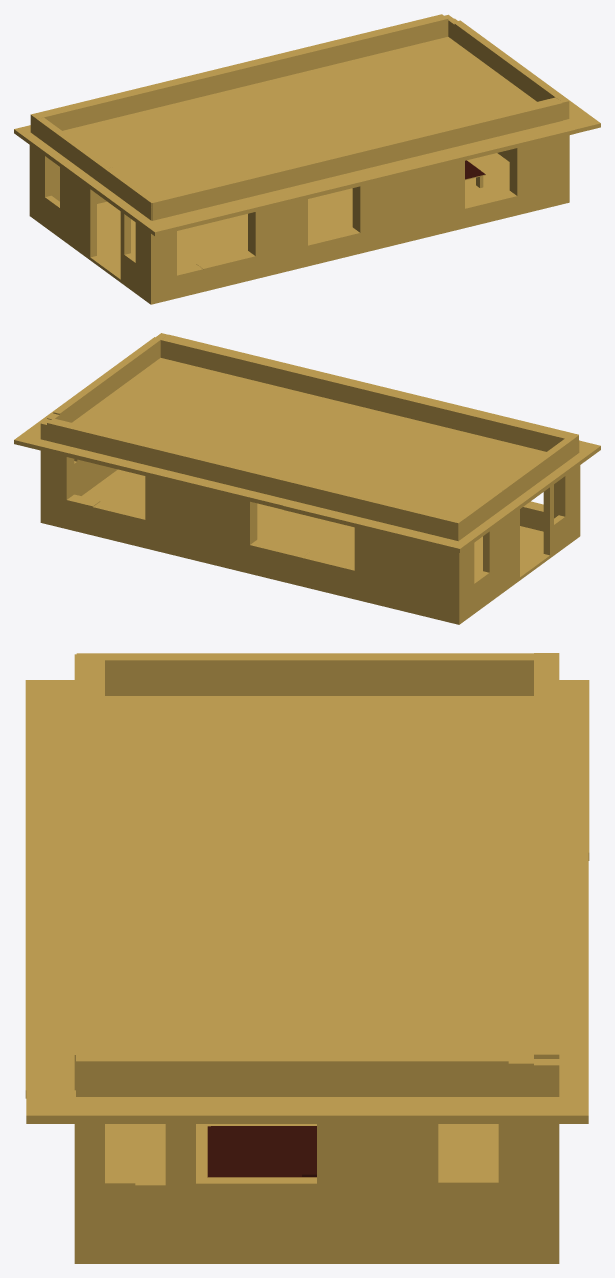
File: taller.obj
3 views of the same model, one above another, from view 1: azimuth 30°, elevation 25°; view 2: azimuth 150°, elevation 25°; view 3: azimuth 270°, elevation 25° (orthographic). The views are drawn at different scales.
Visible parts, largest first — view 1: Cube_Cube.001; view 2: Cube_Cube.001; view 3: Cube_Cube.001.
Boxes of the visible parts, x1,y1,x2,y2 form: Cube_Cube.001: (14, 14, 600, 304); Cube_Cube.001: (14, 333, 600, 624); Cube_Cube.001: (25, 653, 589, 1263).
Size of the model in its own units: 27.4 by 5.95 by 14.99.
